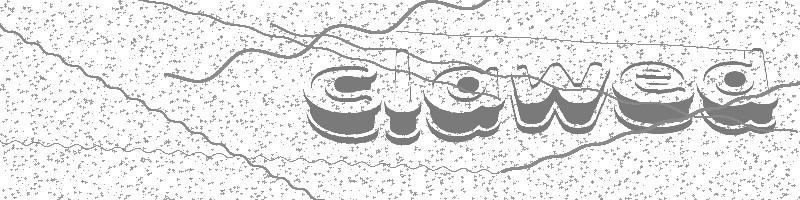a: (423, 65, 506, 143)
c: (303, 64, 382, 145)
d: (696, 47, 779, 136)
e: (612, 61, 695, 135)
l: (384, 48, 422, 146)
w: (509, 61, 611, 134)
